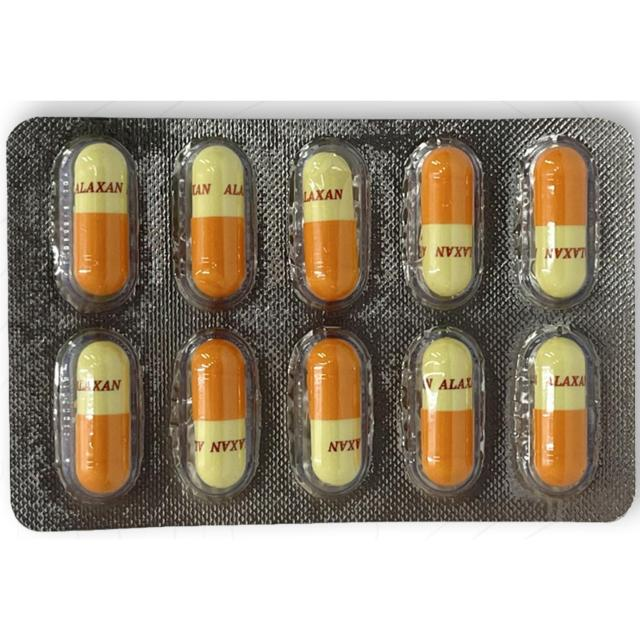blister: (0, 113, 637, 526)
